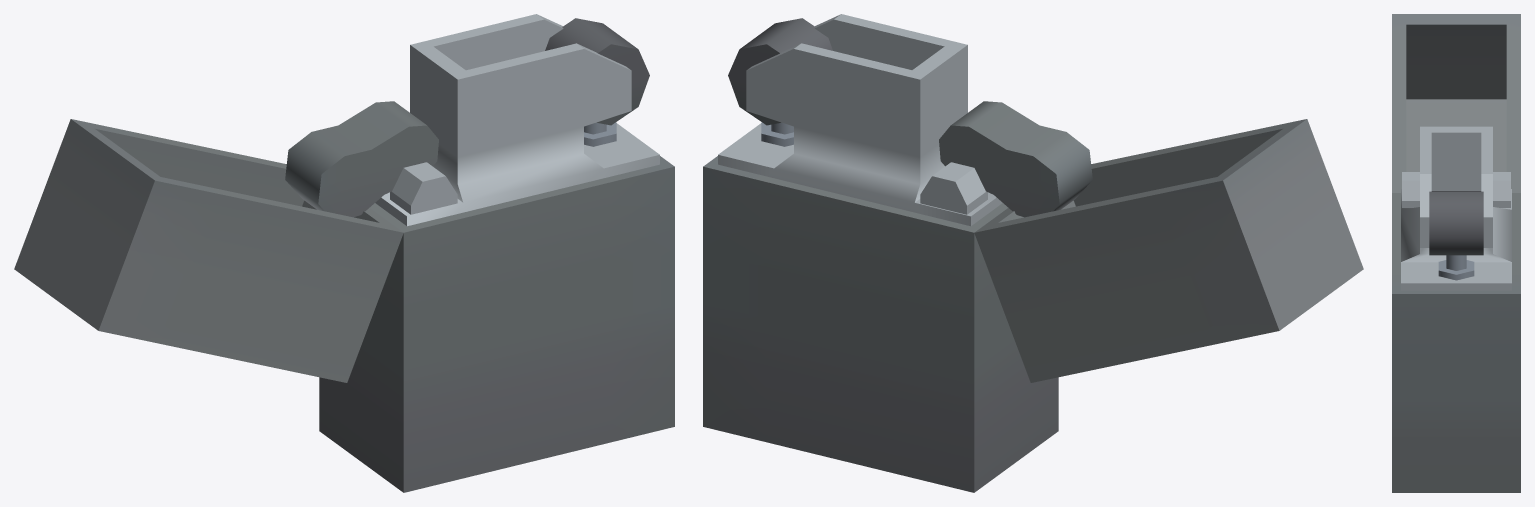
Rendered from Zippo.fbx.
3 renders of one model, left to right at view 1: azimuth 30°, elevation 25°; view 2: azimuth 150°, elevation 25°; view 3: azimuth 270°, elevation 25°, orthographic. The views are drawn at different scales.
Visible parts, largest first — view 1: ColorA; view 2: ColorA; view 3: ColorA.
Boxes of the visible parts, <box> form: ColorA: <box>14,14,674,492</box>; ColorA: <box>703,14,1363,492</box>; ColorA: <box>1392,14,1520,492</box>.
Bounding box in the file's own units: 0.3982 × 0.2523 × 0.1009.
1 material, 1 textured.
